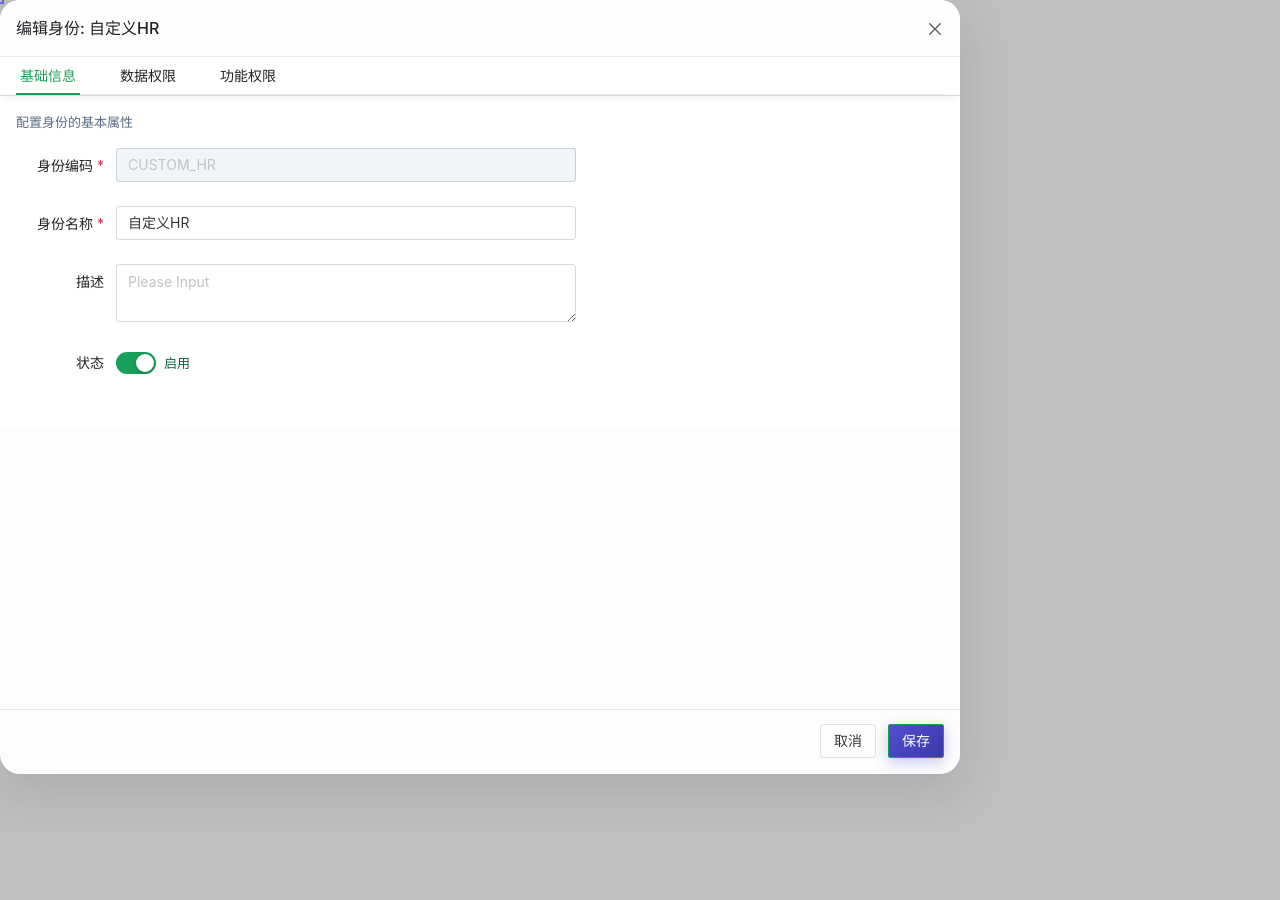
RoleEditModal 读/写拆分 › none/all 模式第二行显示固定描述（2026-10-18 兵哥：各卡二行结构齐整）
Click the element with class "n-tabs-tab" showing "数据权限". click: (148, 75)
box: [120, 67, 176, 84]
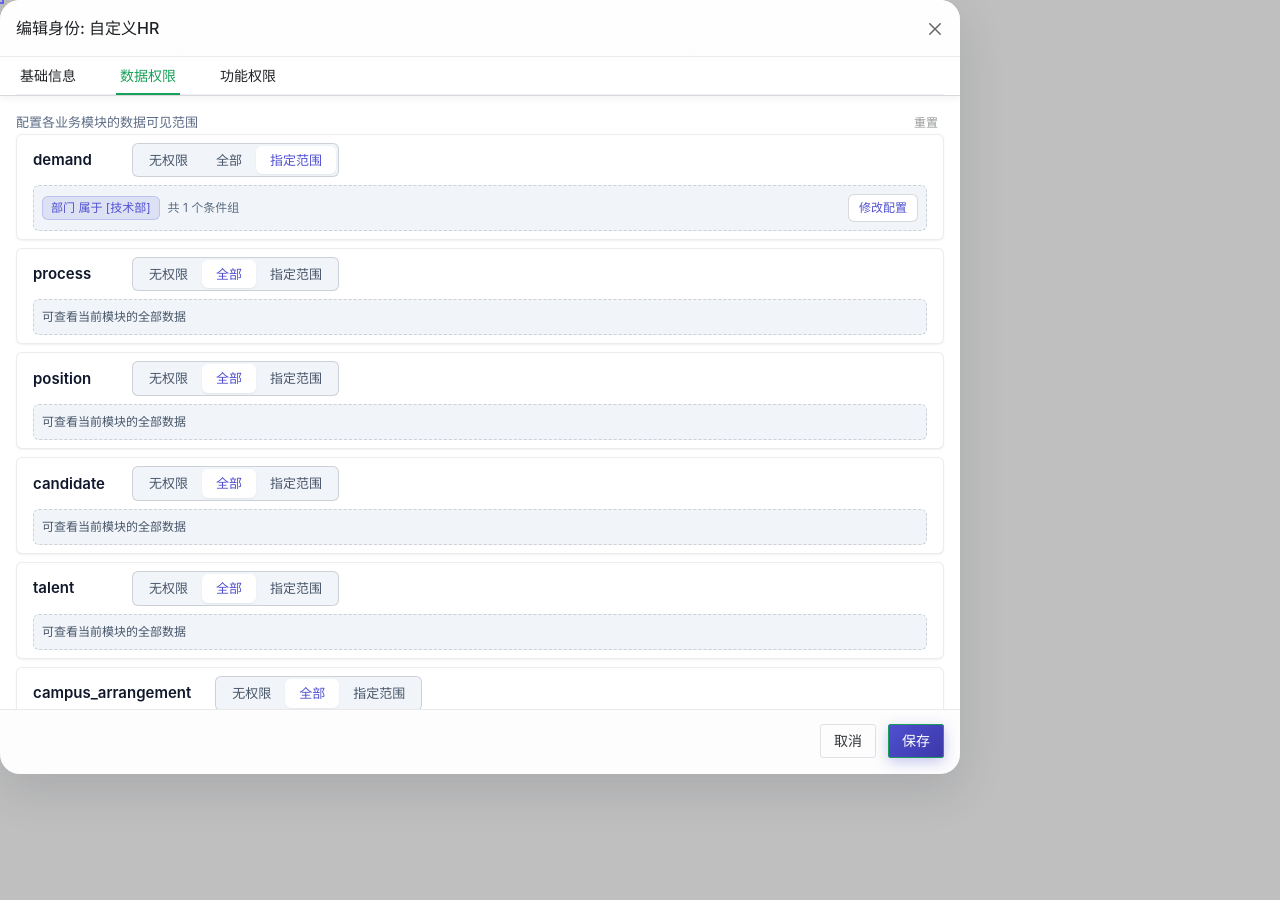
Result: the text with class "mc-mode-desc" below "process" reads "可查看当前模块的全部数据" at [42, 309, 186, 324]
Click the radio button with class "mc-segment" next to "demand". click: (168, 160)
box: [135, 146, 202, 174]
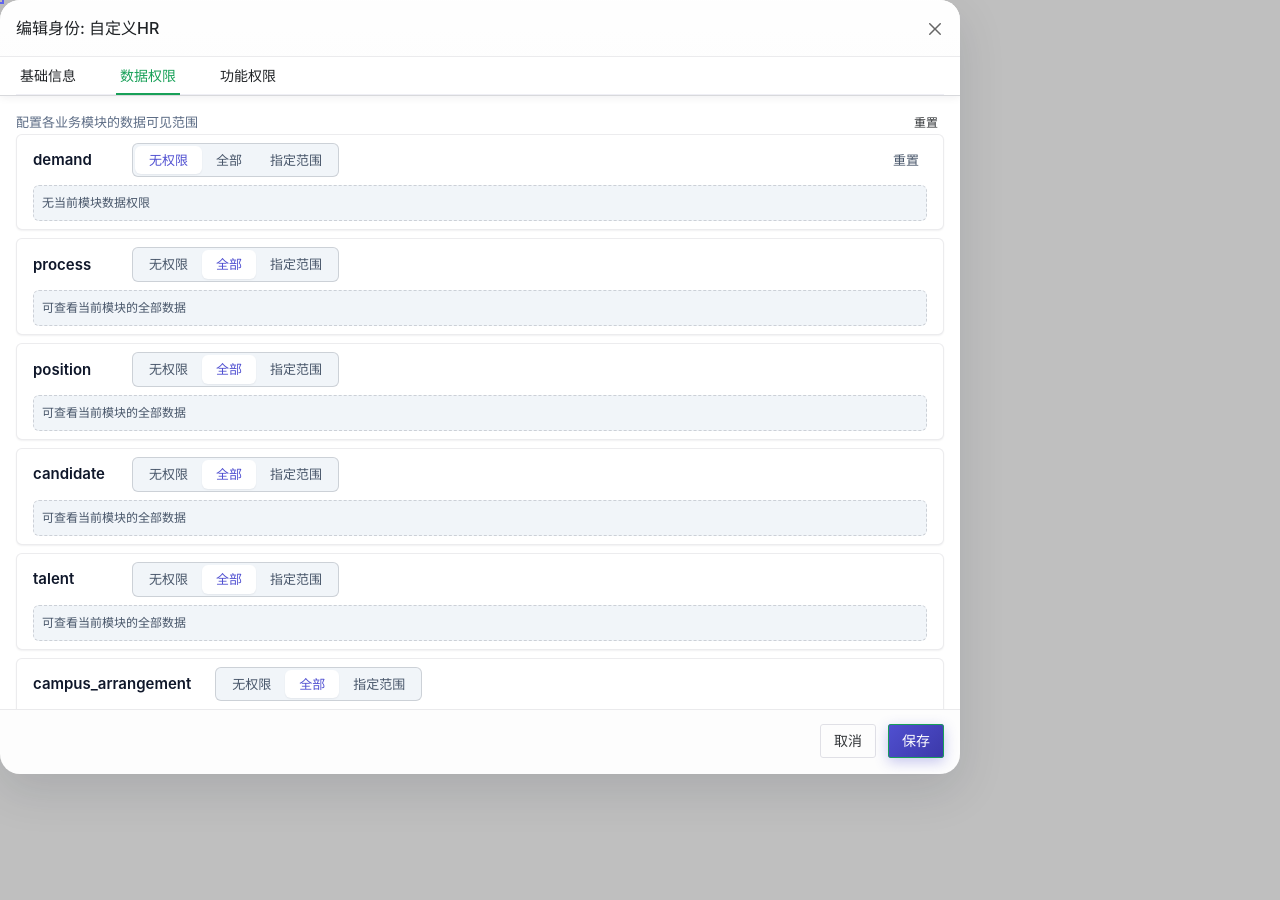
Result: the text with class "mc-mode-desc" reads "无当前模块数据权限" at [42, 195, 150, 210]
Result: the element with class "mc-rule-container" is gone
